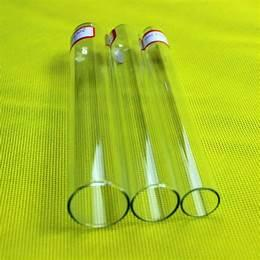Test tube: (58, 0, 224, 226)
